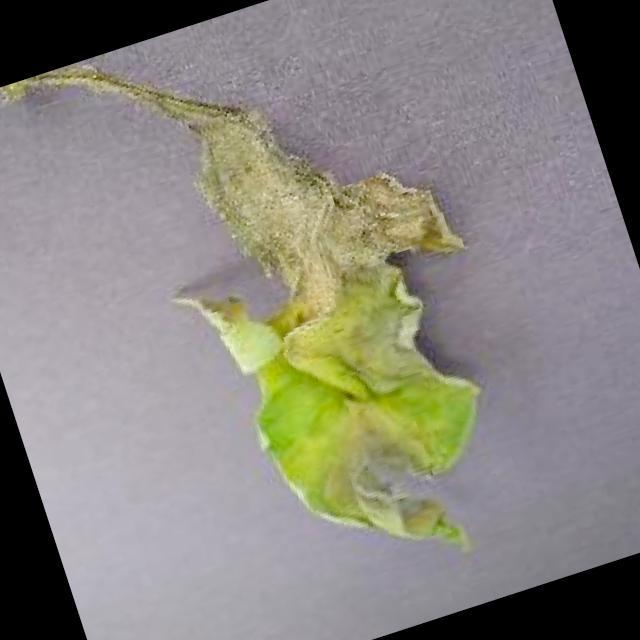Tomato late blight leaf: (0, 0, 557, 640)
